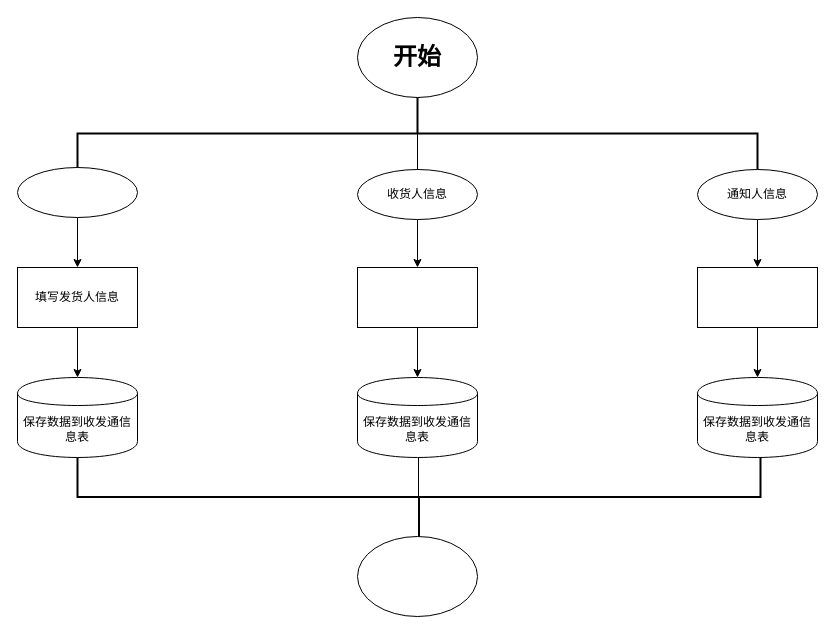
This 835x634 diagram has some shape labels left out. Here are the shapes that lost their labels. From the top down, the centre of each, then its label:
At (77,192): "发货人信息".
At (417,297): "填写收货人信息".
At (757,297): "填写通知人信息".
At (417,576): "结束".
